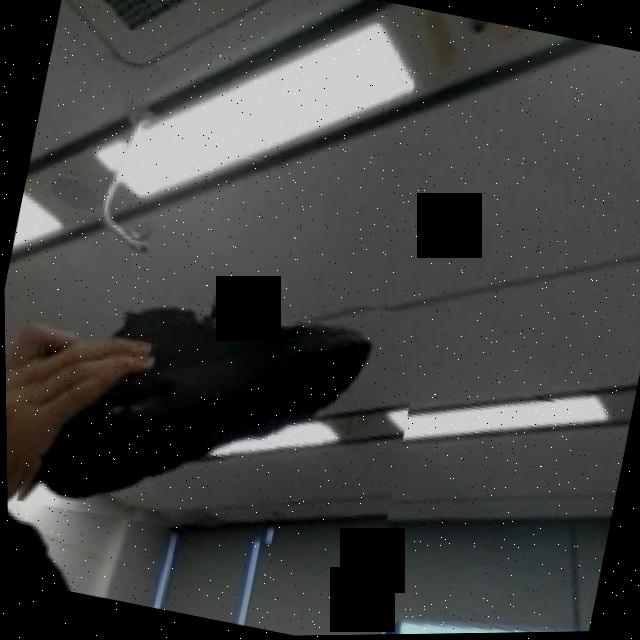shoe: (3, 240, 428, 576)
